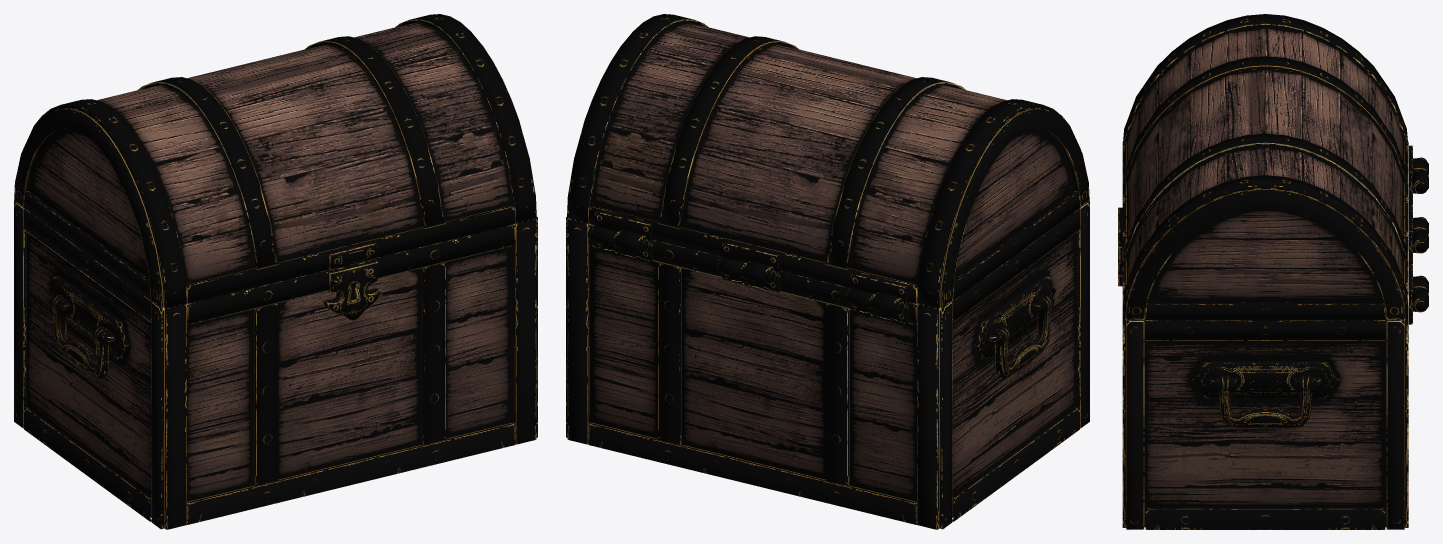
The model's file is chest.fbx.
The picture shows the model from 3 angles, left to right: view 1: azimuth 30°, elevation 25°; view 2: azimuth 150°, elevation 25°; view 3: azimuth 270°, elevation 25°; orthographic projection. The views are drawn at different scales.
Parts seen in each view (by area): view 1: node_id30, node_id32; view 2: node_id30, node_id32; view 3: node_id32, node_id30.
Part boxes in pixels (x1,y1,x2,y2): node_id30: (14, 201, 537, 529); node_id32: (14, 14, 536, 309); node_id30: (566, 201, 1089, 529); node_id32: (567, 14, 1089, 315); node_id32: (1118, 14, 1428, 320); node_id30: (1118, 157, 1428, 529).
Size of the model in its own units: 0.512 by 0.4405 by 0.3614.
2 materials, 2 textured.
